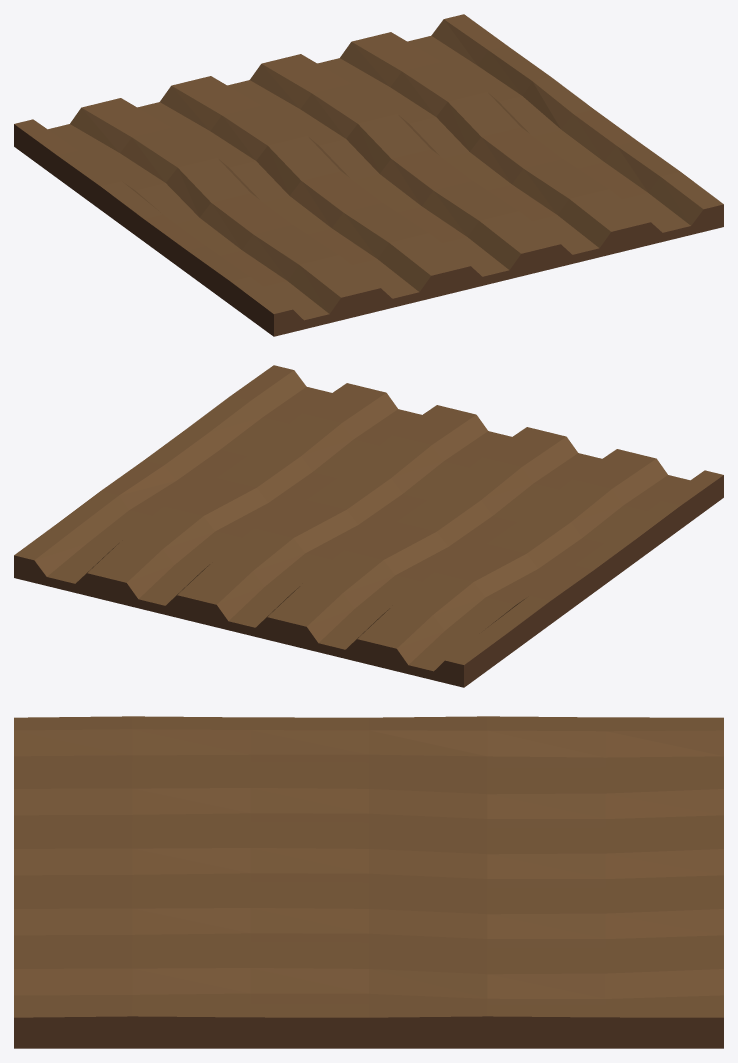
File: tilled-soil-tile-d9152e.glb
The picture shows the model from 3 angles, top to bottom: view 1: azimuth 30°, elevation 25°; view 2: azimuth 150°, elevation 25°; view 3: azimuth 270°, elevation 25°; orthographic projection. The views are drawn at different scales.
Parts seen in each view (by area): view 1: tilled-soil-tile-mesh; view 2: tilled-soil-tile-mesh; view 3: tilled-soil-tile-mesh.
Boxes of the visible parts, x1,y1,x2,y2 form: tilled-soil-tile-mesh: (14, 14, 723, 336); tilled-soil-tile-mesh: (14, 365, 723, 687); tilled-soil-tile-mesh: (14, 716, 723, 1048).
Size of the model in its own units: 1 by 0.05 by 1.
